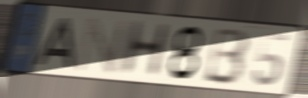5: (251, 31, 292, 88)
8: (168, 25, 205, 82)
A: (33, 17, 77, 70)
B: (201, 26, 252, 87)
H: (116, 18, 174, 77)
N: (73, 15, 133, 75)
